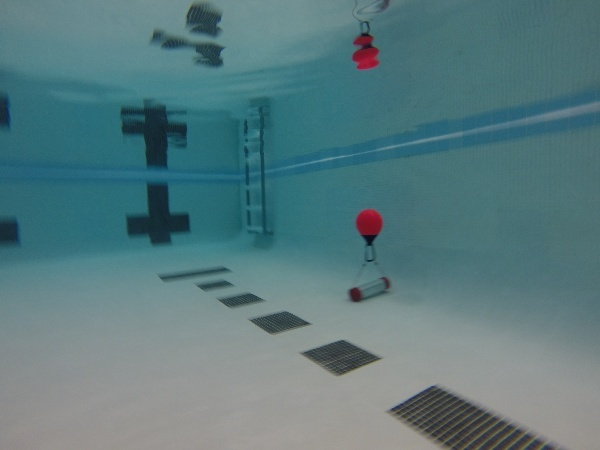buoy_red: (352, 206, 385, 248)
